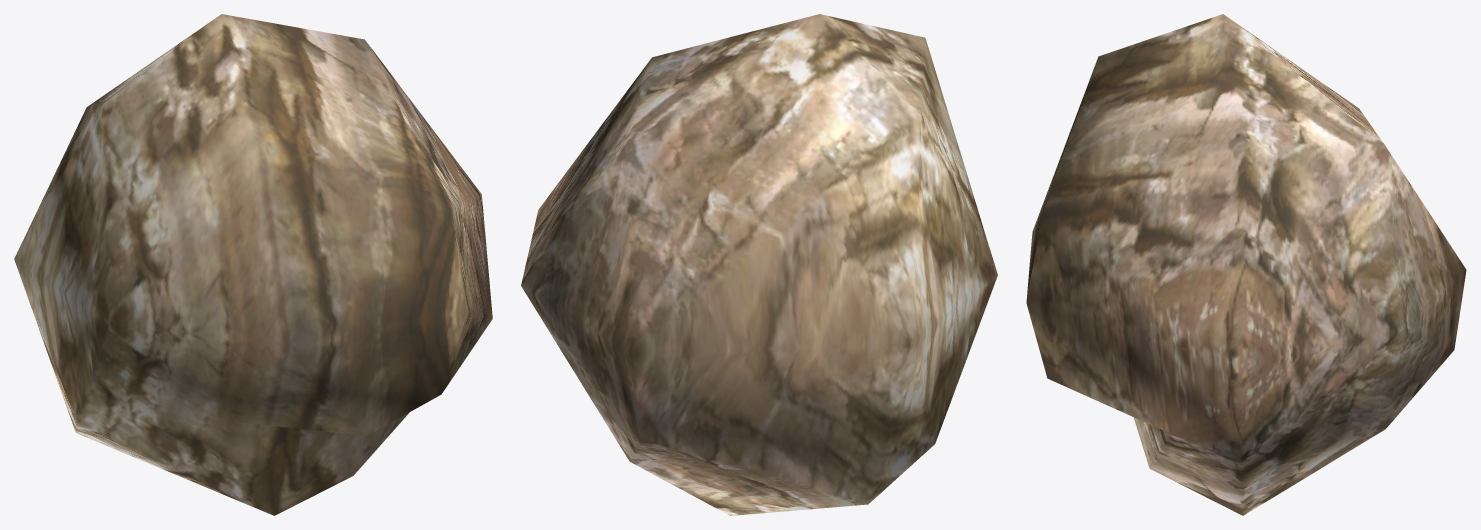
The model's file is thm_tato_cave_rock_lrg_l2.fbx.
3 renders of one model, left to right at view 1: azimuth 30°, elevation 25°; view 2: azimuth 150°, elevation 25°; view 3: azimuth 270°, elevation 25°, orthographic. The views are drawn at different scales.
Parts seen in each view (by area): view 1: mesh_node; view 2: mesh_node; view 3: mesh_node.
Boxes of the visible parts, x1,y1,x2,y2 form: mesh_node: (14, 14, 492, 515); mesh_node: (521, 14, 997, 515); mesh_node: (1026, 14, 1466, 515).
Size of the model in its own units: 1.99 by 2.32 by 1.98.
1 material, 1 textured.
